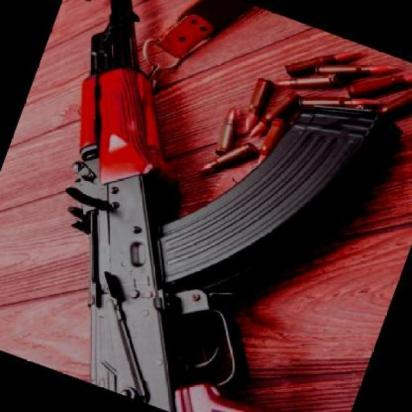Gun: (63, 0, 394, 384)
